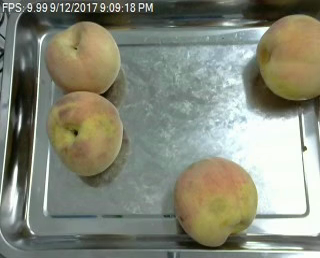Peach: (174, 156, 258, 247), (48, 90, 124, 176), (44, 21, 121, 95), (255, 14, 320, 100)
